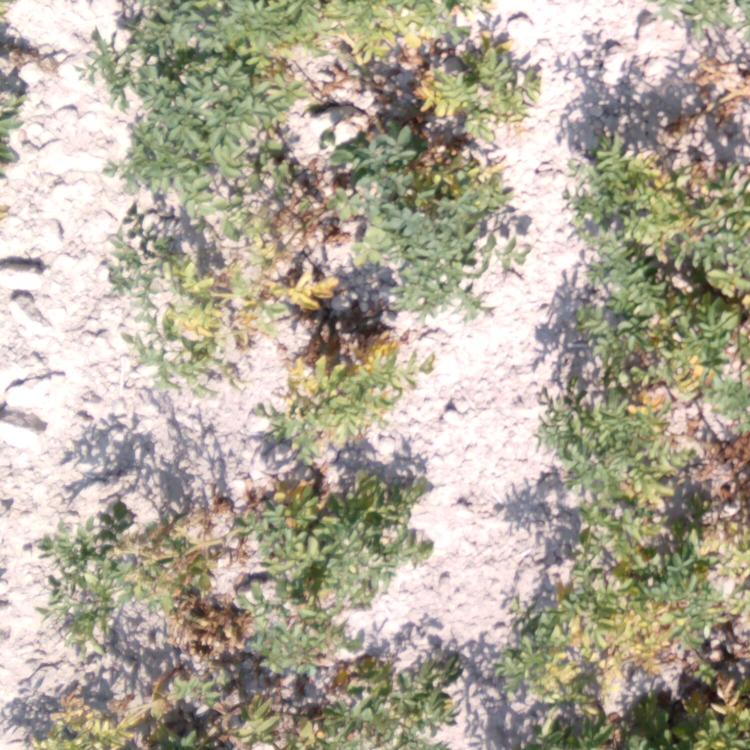healthy: (88, 1, 256, 183), (388, 200, 495, 320), (1, 57, 32, 188), (326, 125, 369, 187)
stressed: (37, 500, 259, 662), (493, 611, 750, 750), (368, 1, 549, 198), (257, 462, 428, 644), (546, 270, 750, 417), (563, 120, 750, 274), (104, 186, 249, 374), (254, 646, 454, 750), (21, 665, 259, 750), (538, 418, 749, 512), (524, 520, 747, 608), (262, 325, 404, 456), (255, 187, 381, 320), (253, 66, 324, 187), (253, 1, 365, 63), (665, 1, 746, 46)
